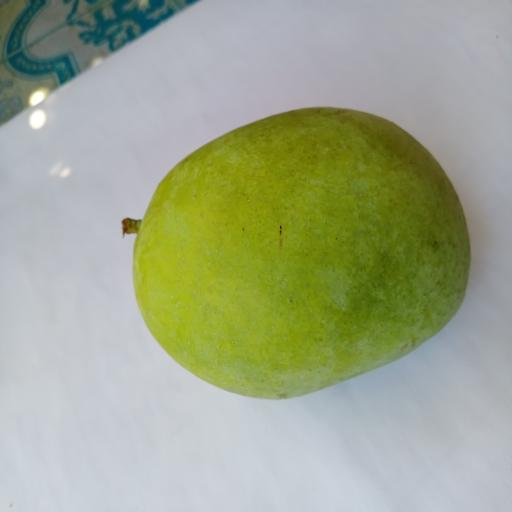mango-unripe: (108, 92, 470, 401)
